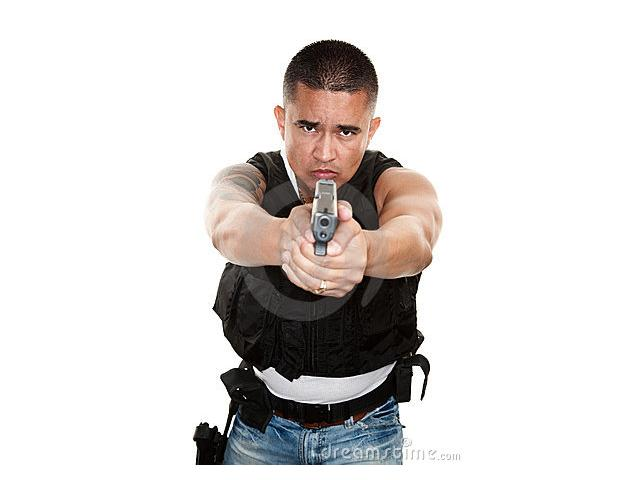pistol: (304, 178, 344, 286)
